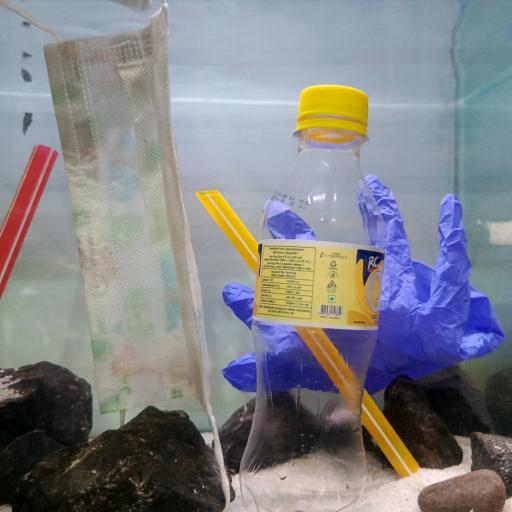bottle_cap: (292, 80, 374, 124)
glove: (218, 171, 502, 389)
mask: (44, 4, 226, 497)
plastic_bottle: (234, 82, 386, 509)
plastic_cup: (196, 187, 422, 482)
plastic_straw: (2, 138, 60, 300)
